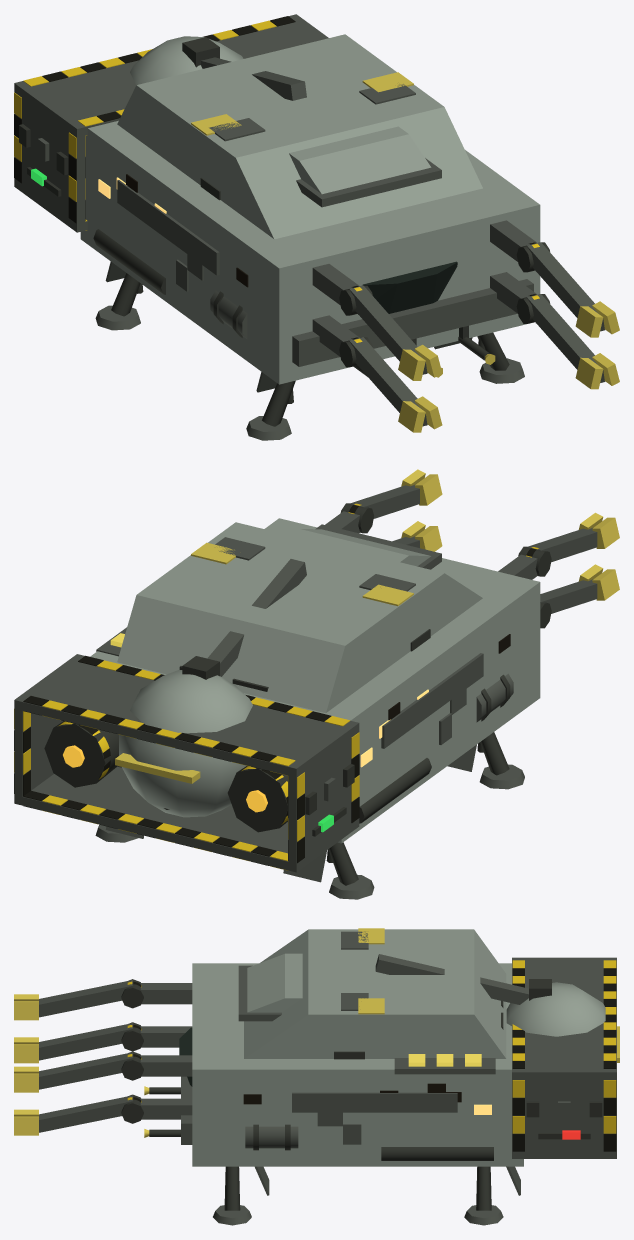
File: tug-l.glb
3 renders of one model, top to bottom at view 1: azimuth 30°, elevation 25°; view 2: azimuth 150°, elevation 25°; view 3: azimuth 270°, elevation 25°, orthographic. The views are drawn at different scales.
Visible parts, largest first — view 1: hullMain, hullUpper, armFore (×4), shroudPlateTop, canopyFairing, accentStripe, shroudPlateLeft, armUpper (×4), cockpitGlass, hazardFlankL, armJawA (×4), gearFoot (×3) (+11 smaller); view 2: hullUpper, hullMain, shroudPlateTop, fuelBell, shroudPlateBottom, engineHousing (×2), shroudPlateLeft, armFore (×3), hazardFlankL, shroudPlateRight, winchBoom, canopyFairing (+12 smaller); view 3: hullMain, hullUpper, armFore (×4), shroudPlateTop, shroudPlateRight, armUpper (×4), fuelBell, hazardFlankR, canopyFairing, armJawB (×4), winchBoom, armKnuckle (×4) (+12 smaller).
Part boxes in pixels (bbox=[...]): hullMain: bbox=[80, 120, 540, 384]; hullUpper: bbox=[117, 34, 482, 239]; armFore (×4): bbox=[349, 242, 605, 426]; shroudPlateTop: bbox=[14, 14, 328, 137]; canopyFairing: bbox=[289, 126, 431, 194]; accentStripe: bbox=[292, 279, 533, 366]; shroudPlateLeft: bbox=[14, 92, 85, 223]; armUpper (×4): bbox=[312, 220, 536, 356]; cockpitGlass: bbox=[362, 261, 457, 313]; hazardFlankL: bbox=[117, 180, 219, 275]; armJawA (×4): bbox=[398, 306, 603, 432]; gearFoot (×3): bbox=[95, 305, 524, 440]; hullUpper: bbox=[117, 522, 482, 712]; hullMain: bbox=[90, 518, 540, 843]; shroudPlateTop: bbox=[14, 654, 359, 777]; fuelBell: bbox=[119, 670, 252, 817]; shroudPlateBottom: bbox=[14, 766, 359, 872]; engineHousing (×2): bbox=[44, 721, 287, 832]; shroudPlateLeft: bbox=[288, 732, 359, 863]; armFore (×3): bbox=[349, 484, 597, 613]; hazardFlankL: bbox=[381, 653, 483, 748]; shroudPlateRight: bbox=[14, 709, 63, 796]; winchBoom: bbox=[207, 559, 306, 676]; canopyFairing: bbox=[290, 529, 430, 566]; hullMain: bbox=[192, 963, 523, 1166]; hullUpper: bbox=[244, 929, 506, 1058]; armFore (×4): bbox=[39, 980, 133, 1132]; shroudPlateTop: bbox=[512, 957, 616, 1079]; shroudPlateRight: bbox=[512, 1079, 616, 1151]; armUpper (×4): bbox=[140, 983, 192, 1119]; fuelBell: bbox=[506, 982, 605, 1036]; hazardFlankR: bbox=[292, 1092, 457, 1112]; canopyFairing: bbox=[247, 953, 302, 1012]; armJawB (×4): bbox=[14, 1001, 38, 1135]; winchBoom: bbox=[375, 954, 528, 1004]; armKnuckle (×4): bbox=[121, 979, 143, 1123].
Bounding box in the file's own units: 2.46 × 2.05 × 5.3.
